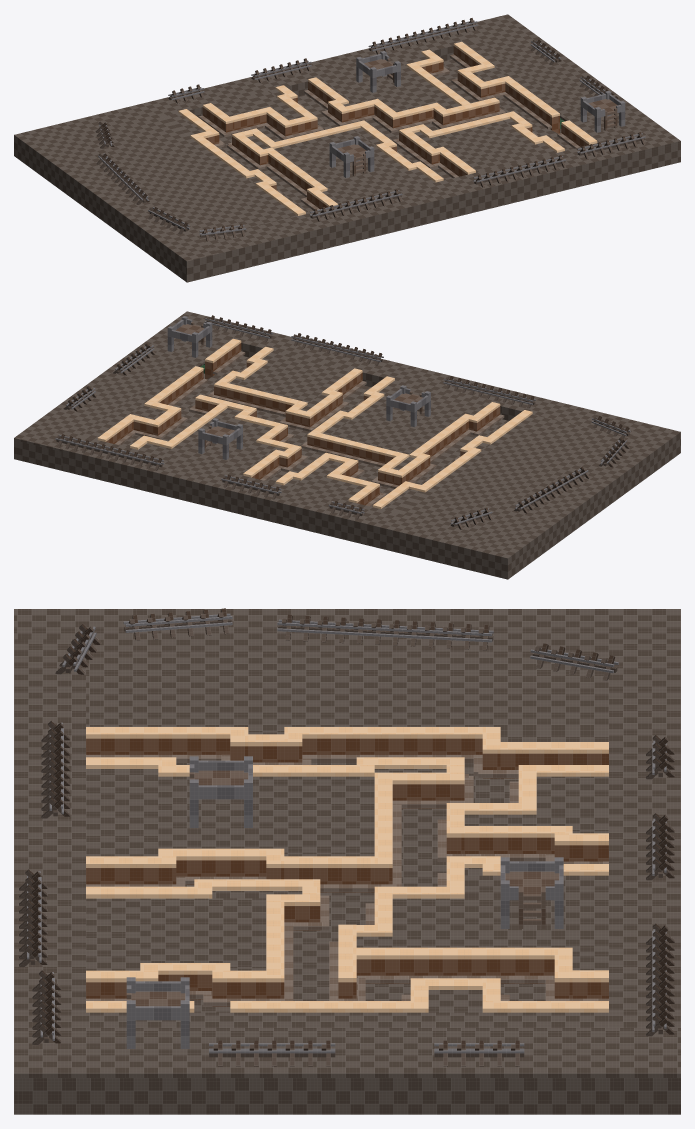
File: WWIV.gltf
The picture shows the model from 3 angles, top to bottom: view 1: azimuth 30°, elevation 25°; view 2: azimuth 150°, elevation 25°; view 3: azimuth 270°, elevation 25°; orthographic projection. The views are drawn at different scales.
Parts seen in each view (by area): view 1: Part (×29); view 2: Part (×26); view 3: Part (×64), Texture (×4).
Boxes of the visible parts, left/top/right/bottom form: Part (×29): left=14, top=14, right=680, bottom=282; Part (×26): left=14, top=311, right=680, bottom=579; Part (×64): left=14, top=609, right=680, bottom=1114; Texture (×4): left=14, top=640, right=680, bottom=1113.
Size of the model in its own units: 305 by 26.31 by 185.
